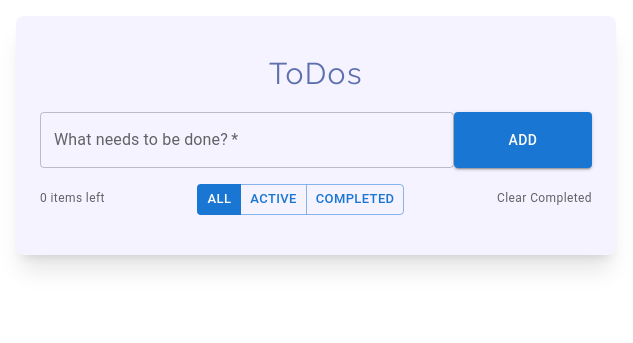
Test: App component › deletes an item from the list
The width and height of the screenshot is (633, 343).
In the field: (247, 140) [40,112,454,168], type "New item"
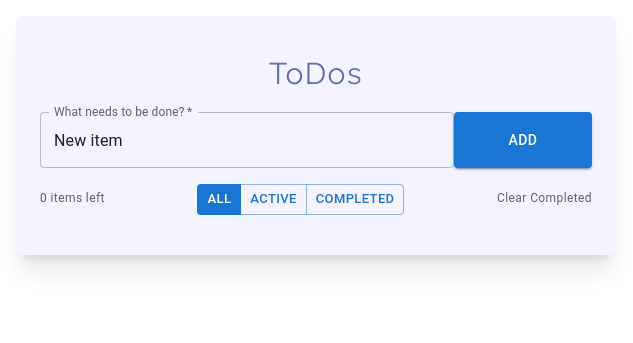
Click the button "Add": (523, 140) [454,112,592,168]
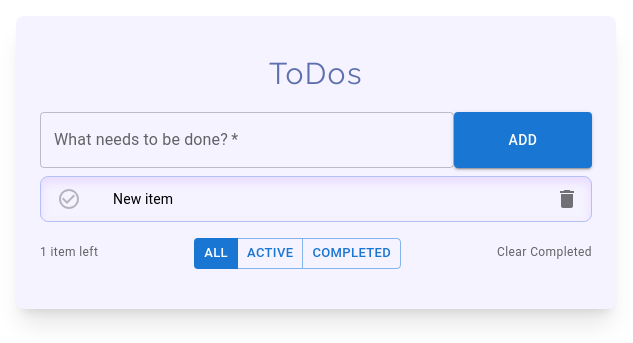
Expected: the text "New item" is shown, [113,191,173,207]
Click the button with test id "DeleteIcon": (567, 199) [547,179,587,219]
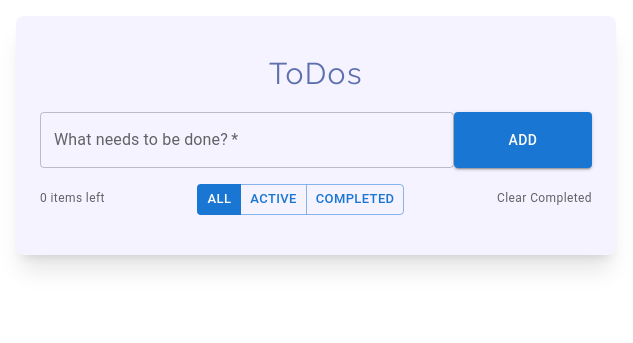
Expected: the list item "New item" is gone
